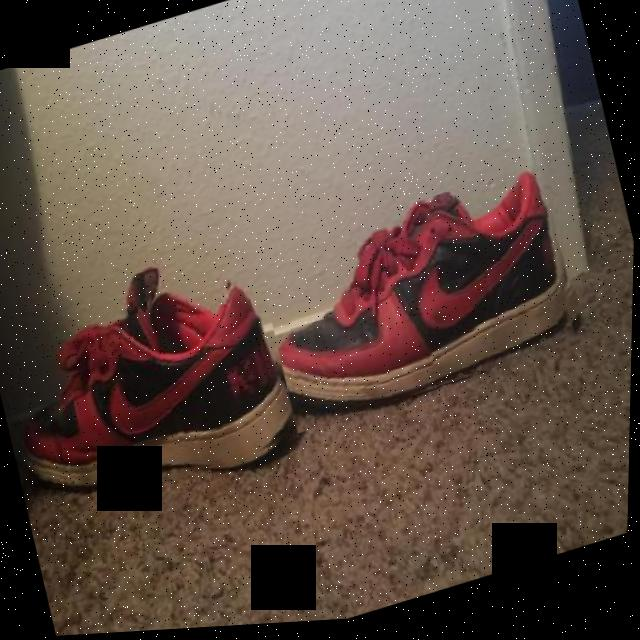shoe: (253, 165, 595, 439), (0, 237, 308, 526)
